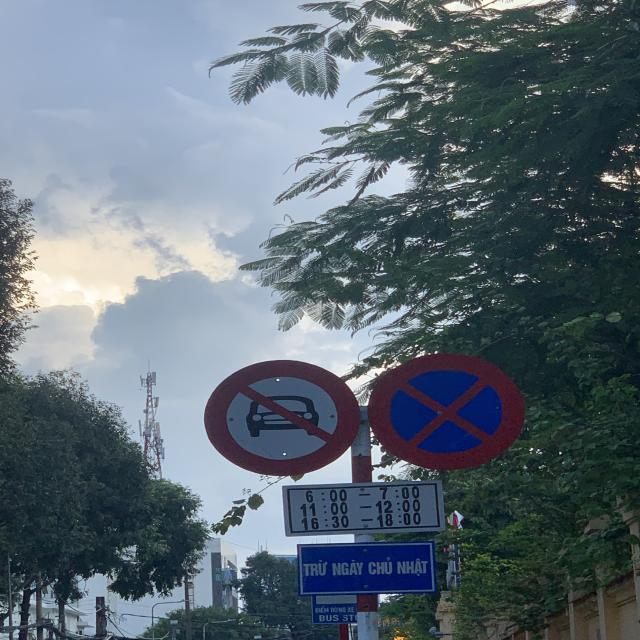Cam_Dung_Va_Dau_Xe: (371, 353, 524, 469)
Cam_O_To: (204, 360, 360, 476)
